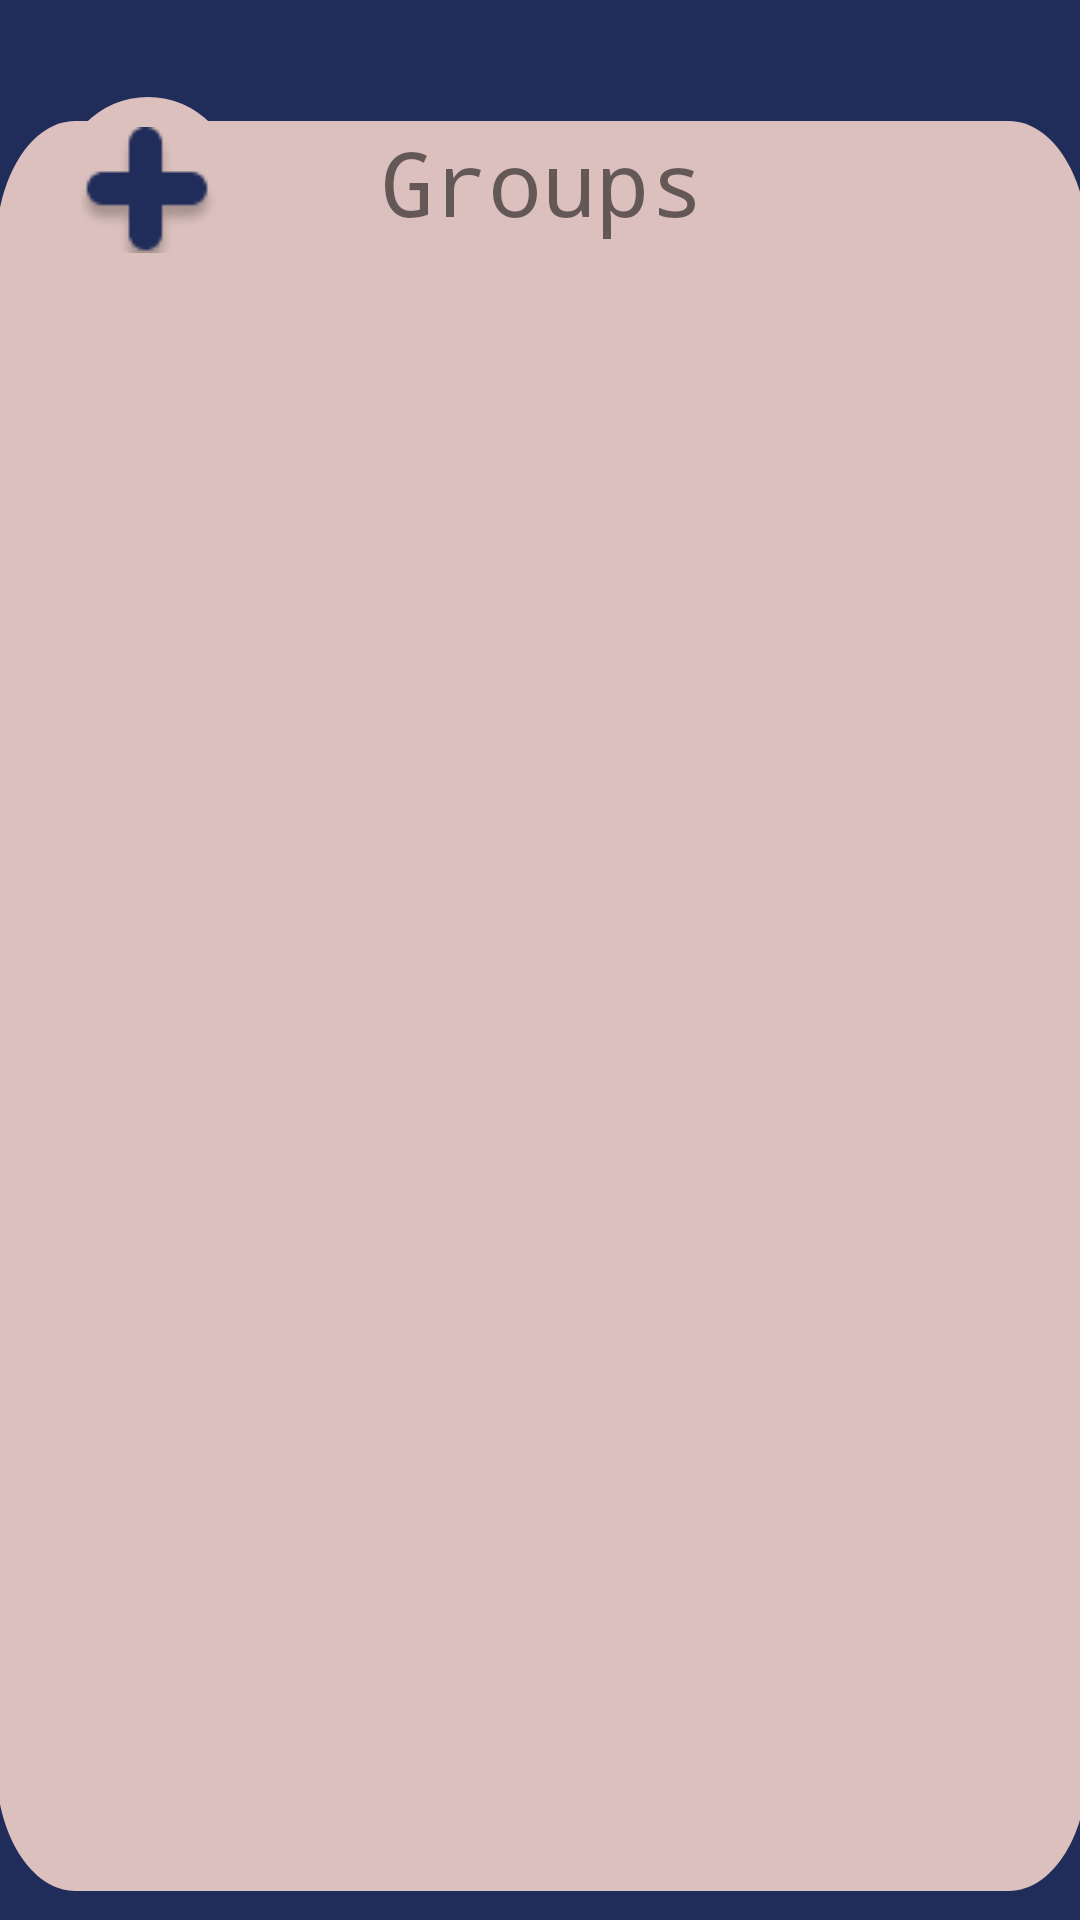

Screen size 1080px×1920px. Icon name, then its box in pixels as (x1, y1, x2, y2):
add: (86, 127, 208, 253)
